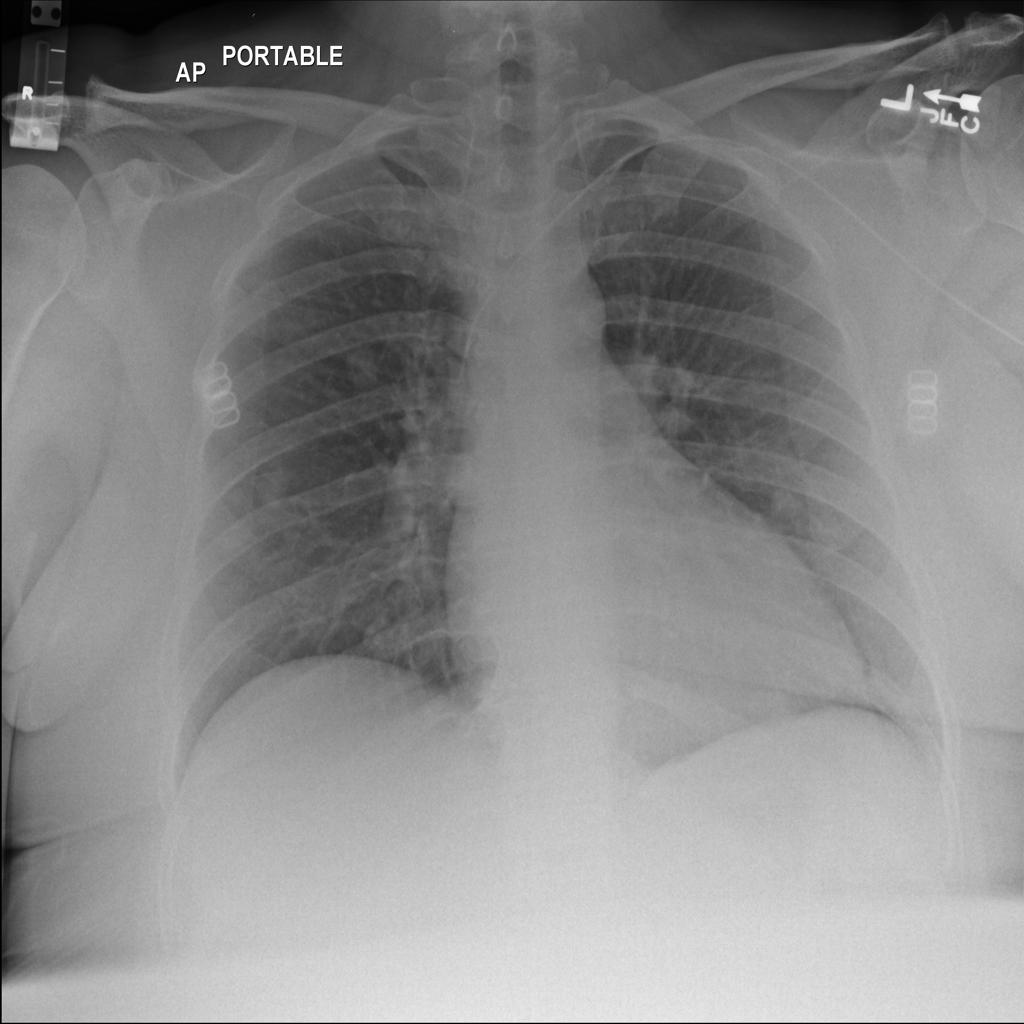nodule: (728, 668, 814, 735), (753, 469, 824, 540), (336, 337, 387, 394), (650, 393, 703, 444)
